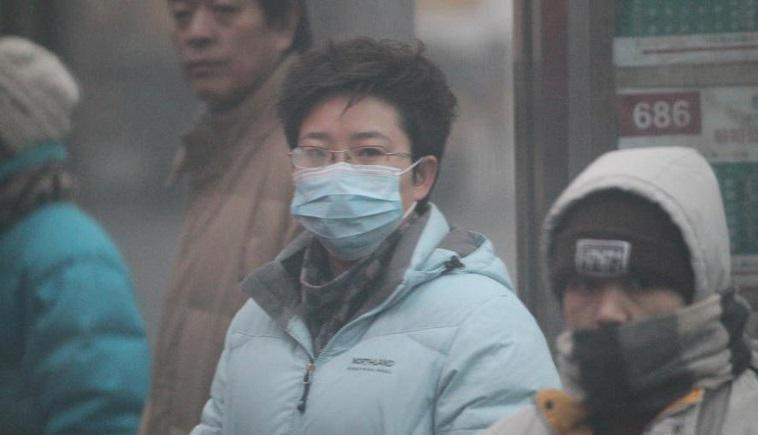NONE: (169, 1, 269, 98)
OK: (292, 131, 409, 253)
WRONG: (566, 255, 690, 379)
